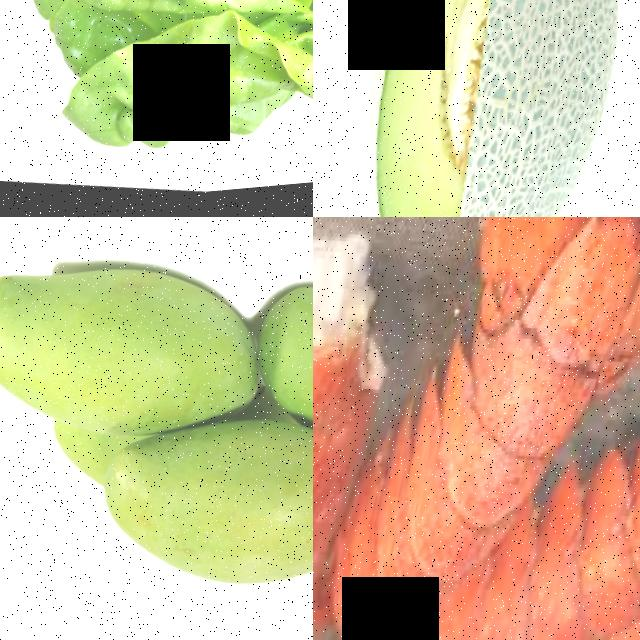lettuce: (0, 0, 313, 217)
lobster tails: (367, 217, 640, 557), (313, 217, 414, 640), (529, 310, 640, 640)
mango: (0, 239, 270, 463), (90, 412, 313, 620), (248, 261, 313, 479)
melon: (388, 0, 640, 217)
